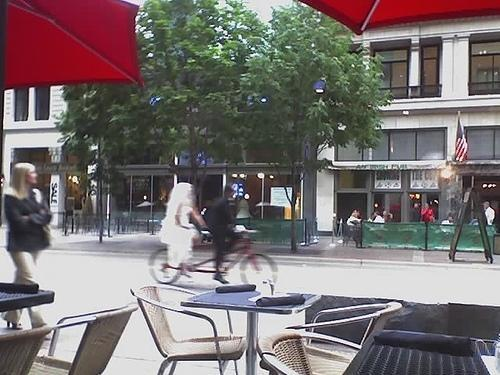bicycle: (148, 226, 280, 292)
